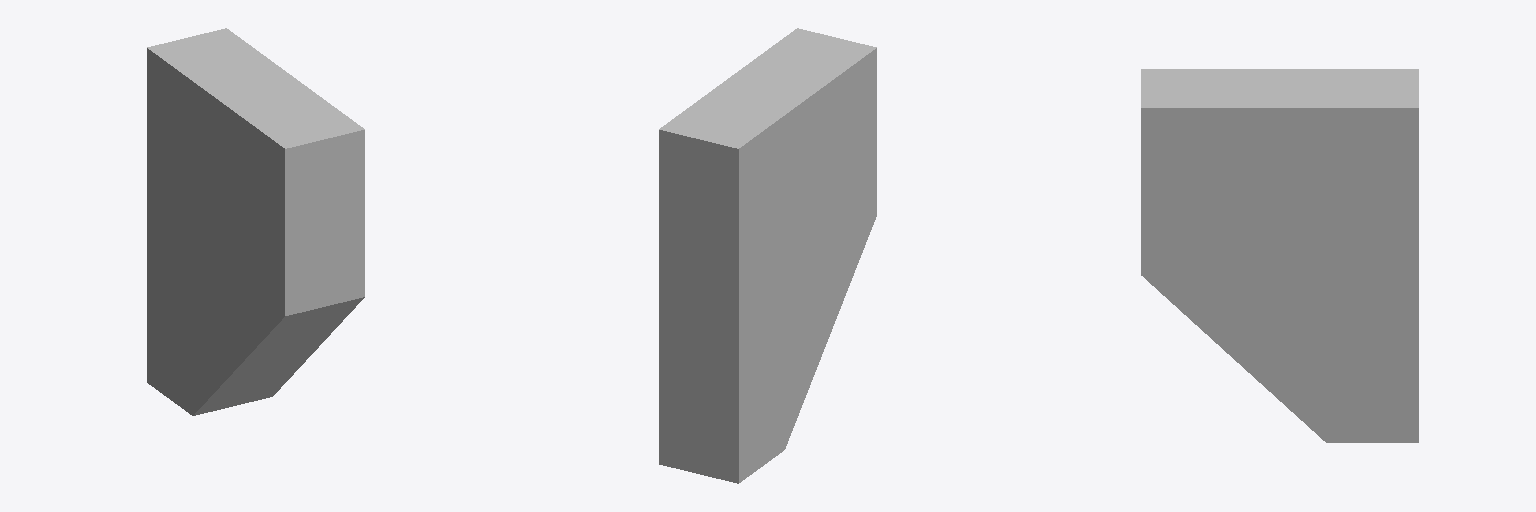
The model's file is E2-Rep07-p03.obj.
3 views of the same model, side by side, from view 1: azimuth 30°, elevation 25°; view 2: azimuth 150°, elevation 25°; view 3: azimuth 270°, elevation 25° (orthographic).
Parts seen in each view (by area): view 1: mesh3, mesh6, mesh0, mesh5; view 2: mesh3, mesh1, mesh0; view 3: mesh2, mesh0.
Boxes of the visible parts, x1,y1,x2,y2 form: mesh3: [147, 48, 284, 415]; mesh6: [285, 130, 364, 315]; mesh0: [147, 28, 364, 148]; mesh5: [194, 297, 364, 415]; mesh3: [739, 48, 876, 482]; mesh1: [659, 130, 738, 483]; mesh0: [659, 28, 876, 148]; mesh2: [1141, 108, 1418, 442]; mesh0: [1141, 69, 1418, 107].
Bounding box in the file's own units: 0.01 × 0.04 × 0.03.